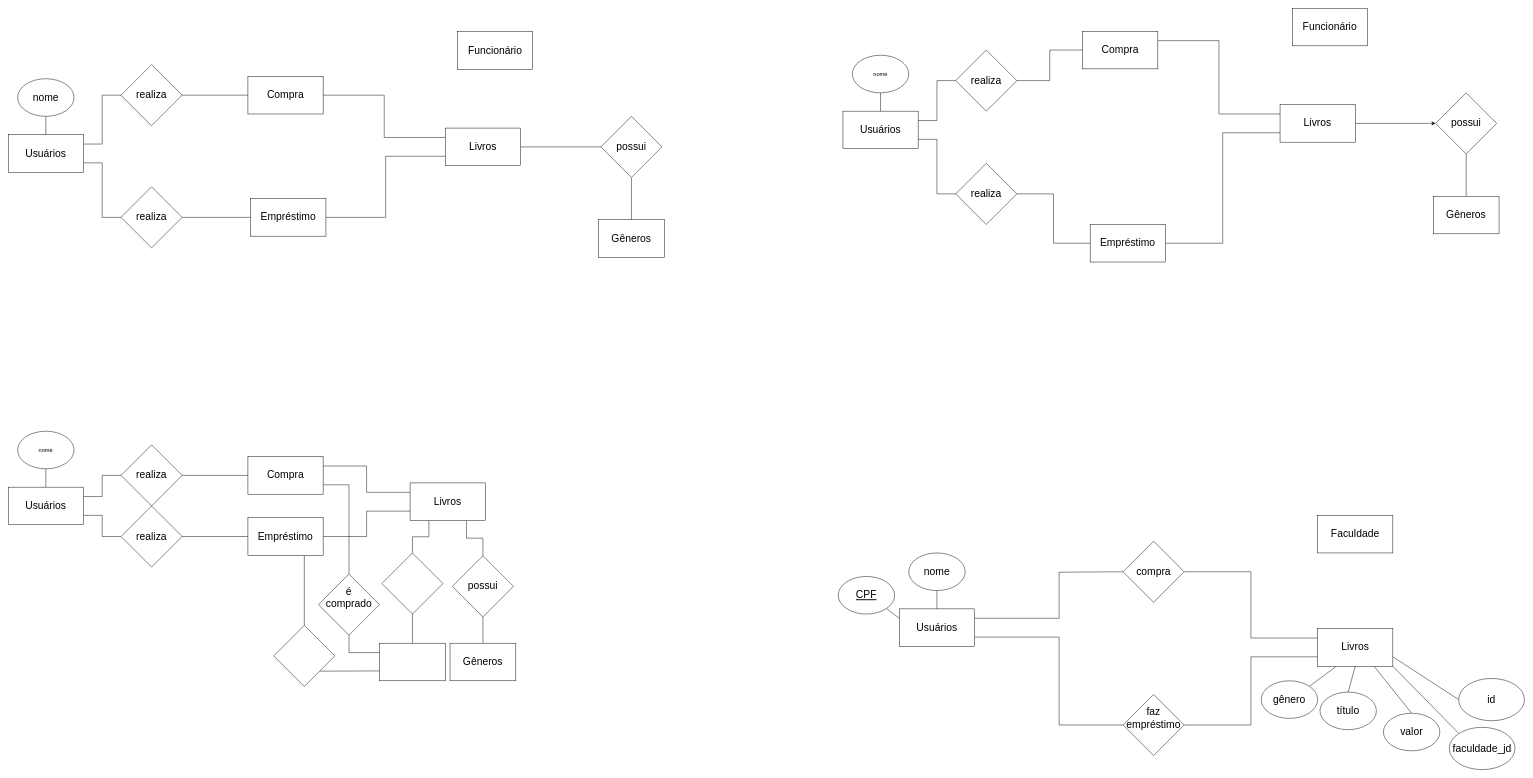
The diagram is 1533 pixels wide and 778 high, and some of its shapes have lost their labels. The centre of each missing label's shape, as x and y in pixels:
"Bibliotecas" goes at [412,662].
"detém" goes at [412,583].
"é emprestado" goes at [304,655].
